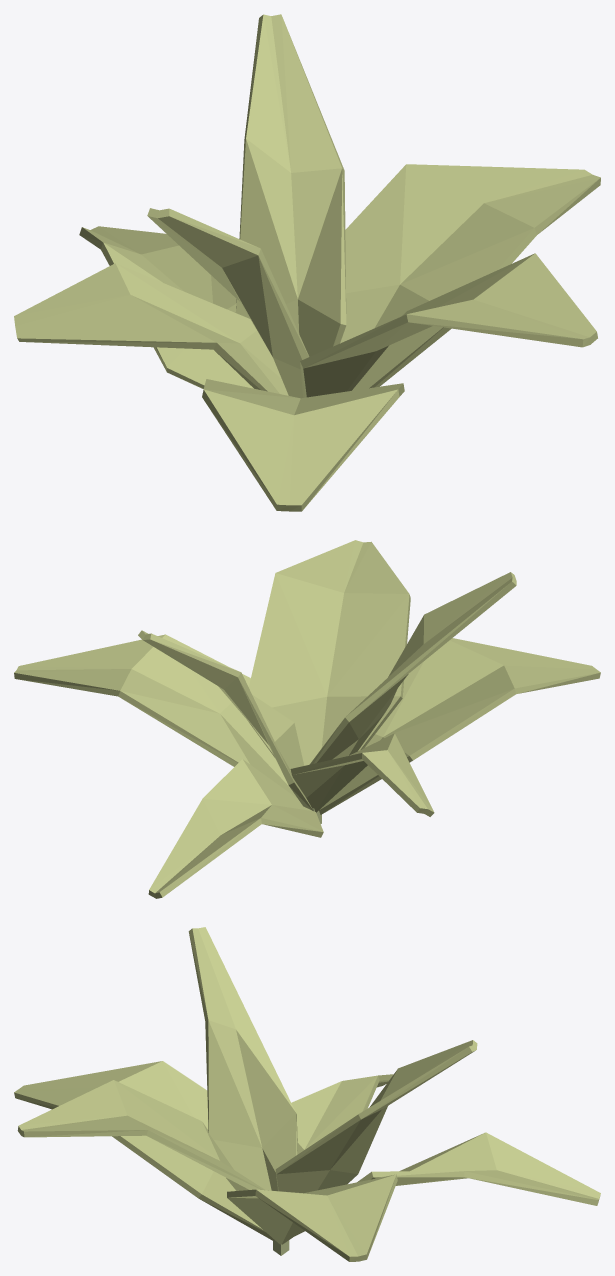
The model's file is PhlebodiumAureum.glb.
3 renders of one model, top to bottom at view 1: azimuth 30°, elevation 25°; view 2: azimuth 150°, elevation 25°; view 3: azimuth 270°, elevation 25°, orthographic. The views are drawn at different scales.
Visible parts, largest first — view 1: Crown; view 2: Crown; view 3: Crown.
Part boxes in pixels (box(x1,y1,x2,y2)): Crown: box(14, 14, 600, 511); Crown: box(14, 540, 600, 898); Crown: box(14, 927, 600, 1261).
Bounding box in the file's own units: 1.55 × 0.885 × 1.87.
